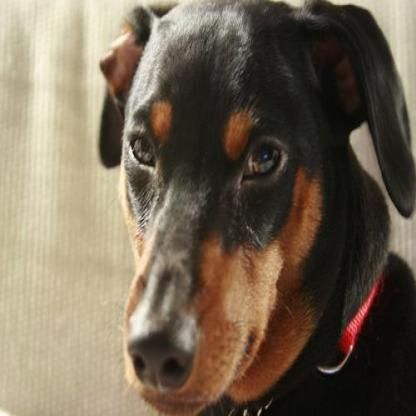miniature_pinscher: (98, 0, 414, 414)
